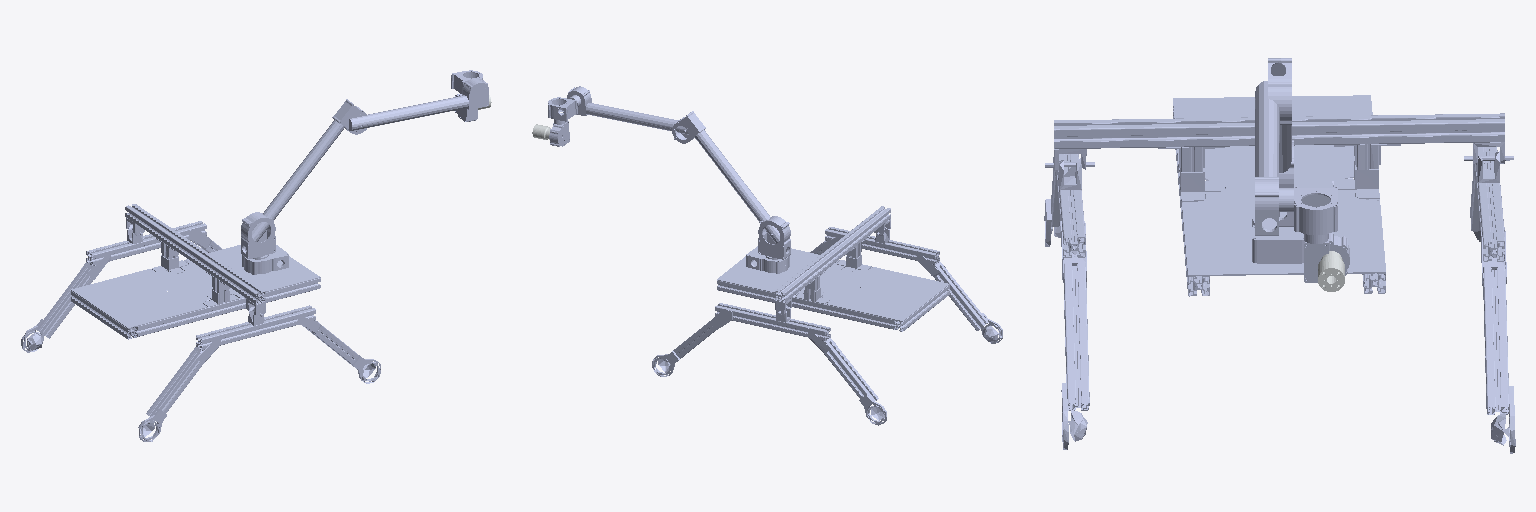
URDF robot description (arm_description):
<?xml version="1.0" encoding="utf-8"?>
<robot
  name="arm_description">
<link
    name="base_link">
  </link>
  <joint
    name="anchor_joint"
    type="fixed">
    <origin
      xyz="0 0 0"
      rpy="0 0 1.57" />
    <parent
      link="base_link" />
    <child
      link="anchor" />
  </joint>
<link
    name="anchor">
    <inertial>
      <origin
        xyz="0.0044130475778954 -0.0310568977431112 0.118279871618265"
        rpy="0 0 0" />
      <mass
        value="5.00699131277012" />
      <inertia
        ixx="0.268939126634922"
        ixy="0.000157102820952367"
        ixz="-0.0117934298282522"
        iyy="0.61282212173551"
        iyz="0.0042109592921943"
        izz="0.435034401814071" />
    </inertial>
    <visual>
      <origin
        xyz="0 0 0"
        rpy="0 0 0" />
      <geometry>
        <mesh
          filename="package://mobile_base_description/meshes/base_link.STL" />
      </geometry>
      <material
        name="">
        <color
          rgba="0.792156862745098 0.819607843137255 0.933333333333333 1" />
      </material>
    </visual>
    <collision>
      <origin
        xyz="0 0 0"
        rpy="0 0 0" />
      <geometry>
        <mesh
          filename="package://mobile_base_description/meshes/base_link.STL" />
      </geometry>
    </collision>
  </link>
  <link
    name="right_front_wheel_link">
    <inertial>
      <origin
        xyz="-0.11217 8.8447E-05 5.7636E-05"
        rpy="0 0 0" />
      <mass
        value="1.5004" />
      <inertia
        ixx="9.5426E-06"
        ixy="3.0122E-07"
        ixz="1.5725E-07"
        iyy="0.00077209"
        iyz="3.7664E-07"
        izz="0.0007733" />
    </inertial>
    <visual>
      <origin
        xyz="0 0 0"
        rpy="0 0 0" />
      <geometry>
        <mesh
          filename="package://mobile_base_description/meshes/wheel_link.STL" />
      </geometry>
      <material
        name="">
        <color
          rgba="0.79216 0.81961 0.93333 1" />
      </material>
    </visual>
    <collision>
      <origin
        xyz="-0.10 0 0"
        rpy="0 1.57 0" />
      <geometry>
        <!--mesh
          filename="package://mobile_base_description/meshes/wheel_link.STL" /-->
	<cylinder radius="0.16" length="0.09"/>
      </geometry>
    </collision>
  </link>
  <joint
    name="right_front_wheel_joint"
    type="continuous">
    <origin
      xyz="-0.39172 -0.62476 -0.30409"
      rpy="0 2.2837E-18 0.037305" />
    <parent
      link="anchor" />
    <child
      link="right_front_wheel_link" />
    <axis
      xyz="1 0 0" />
  </joint>
  <link
    name="left_front_wheel_link">
    <inertial>
      <origin
        xyz="-0.11217 8.8185E-05 5.7784E-05"
        rpy="0 0 0" />
      <mass
        value="1.5004" />
      <inertia
        ixx="9.5533E-06"
        ixy="3.0632E-07"
        ixz="1.5757E-07"
        iyy="0.00077207"
        iyz="3.7952E-07"
        izz="0.00077329" />
    </inertial>
    <visual>
      <origin
        xyz="0 0 0"
        rpy="0 0 0" />
      <geometry>
        <mesh
          filename="package://mobile_base_description/meshes/wheel_link.STL" />
      </geometry>
      <material
        name="">
        <color
          rgba="0.79216 0.81961 0.93333 1" />
      </material>
    </visual>
    <collision>
      <origin
        xyz="-0.10 0 0"
        rpy="0 1.57 0" />
      <geometry>
        <!--mesh
          filename="package://mobile_base_description/meshes/wheel_link.STL" /-->
	<cylinder radius="0.16" length="0.09"/>
      </geometry>
    </collision>
  </link>
  <joint
    name="left_front_wheel_joint"
    type="continuous">
    <origin
      xyz="0.43707 -0.64386 -0.30409"
      rpy="-1.5708 -2.2837E-18 -3.1043" />
    <parent
      link="anchor" />
    <child
      link="left_front_wheel_link" />
    <axis
      xyz="-1 0 0" />
  </joint>
  <link
    name="right_back_wheel_link">
    <inertial>
      <origin
        xyz="-0.11217 8.8435E-05 5.7607E-05"
        rpy="0 0 0" />
      <mass
        value="1.5004" />
      <inertia
        ixx="9.5638E-06"
        ixy="3.0089E-07"
        ixz="1.5622E-07"
        iyy="0.00077205"
        iyz="3.8333E-07"
        izz="0.00077327" />
    </inertial>
    <visual>
      <origin
        xyz="0 0 0"
        rpy="0 0 0" />
      <geometry>
        <mesh
          filename="package://mobile_base_description/meshes/wheel_link.STL" />
      </geometry>
      <material
        name="">
        <color
          rgba="0.79216 0.81961 0.93333 1" />
      </material>
    </visual>
    <collision>
      <origin
        xyz="-0.10 0 0"
        rpy="0 1.57 0" />
      <geometry>
        <!--mesh
          filename="package://mobile_base_description/meshes/wheel_link.STL" /-->
	<cylinder radius="0.16" length="0.09"/>
      </geometry>
    </collision>
  </link>
  <joint
    name="right_rear_wheel_joint"
    type="continuous">
    <origin
      xyz="-0.42784 0.34311 -0.30409"
      rpy="0 2.2837E-18 0.037305" />
    <parent
      link="anchor" />
    <child
      link="right_back_wheel_link" />
    <axis
      xyz="1 0 0" />
  </joint>
  <link
    name="left_back_wheel_link">
    <inertial>
      <origin
        xyz="-0.11217 8.8435E-05 5.7607E-05"
        rpy="0 0 0" />
      <mass
        value="1.5004" />
      <inertia
        ixx="9.5638E-06"
        ixy="3.0089E-07"
        ixz="1.5622E-07"
        iyy="0.00077205"
        iyz="3.8333E-07"
        izz="0.00077327" />
    </inertial>
    <visual>
      <origin
        xyz="0 0 0"
        rpy="0 0 0" />
      <geometry>
        <mesh
          filename="package://mobile_base_description/meshes/wheel_link.STL" />
      </geometry>
      <material
        name="">
        <color
          rgba="0.79216 0.81961 0.93333 1" />
      </material>
    </visual>
    <collision>
      <origin
        xyz="-0.10 0 0"
        rpy="0 1.57 0" />
      <geometry>
        <!--mesh
          filename="package://mobile_base_description/meshes/wheel_link.STL" /-->
	<cylinder radius="0.16" length="0.09"/>
      </geometry>
    </collision>
  </link>
  <joint
    name="left_rear_wheel_joint"
    type="continuous">
    <origin
      xyz="0.40294 0.32408 -0.30409"
      rpy="1.5708 5.545E-15 -3.1043" />
    <parent
      link="anchor" />
    <child
      link="left_back_wheel_link" />
    <axis
      xyz="-1 0 0" />
  </joint>

  <link
    name="arm_base_link">
    <inertial>
      <origin
        xyz="0.055 0.028511 -0.07071"
        rpy="0 0 0" />
      <mass
        value="0.22424" />
      <inertia
        ixx="1"
        ixy="1"
        ixz="0"
        iyy="1"
        iyz="0"
        izz="1" />
    </inertial>
    <visual>
      <origin
        xyz="0 0 0"
        rpy="0 0 0" />
      <geometry>
        <mesh
          filename="package://arm_description/meshes/base_link.STL" />
      </geometry>
      <material
        name="">
        <color
          rgba="0.79216 0.81961 0.93333 1" />
      </material>
    </visual>
    <collision>
      <origin
        xyz="0 0 0"
        rpy="0 0 0" />
      <geometry>
        <mesh
          filename="package://arm_description/meshes/base_link.STL" />
      </geometry>
    </collision>
  </link>
  
  <joint
    name="joint_dummy"
    type="fixed">
    <origin
      xyz="-0.05 -0.5 0.0"
      rpy="0 0 0" />
    <parent
      link="anchor" />
    <child
      link="arm_base_link" />
  </joint>
  
  <link
    name="link1">
    <inertial>
      <origin
        xyz="0 -0.0739919805157646 0.00271975586057593"
        rpy="0 0 0" />
      <mass
        value="0.182986637355482" />
      <inertia
        ixx="1"
        ixy="0"
        ixz="0"
        iyy="1"
        iyz="0"
        izz="1" />
    </inertial>
    <visual>
      <origin
        xyz="0 0 0"
        rpy="0 0 0" />
      <geometry>
        <mesh
          filename="package://arm_description/meshes/link1.STL" />
      </geometry>
      <material
        name="">
        <color
          rgba="0.792156862745098 0.819607843137255 0.933333333333333 1" />
      </material>
    </visual>
    <collision>
      <origin
        xyz="0 0 0"
        rpy="0 0 0" />
      <geometry>
        <mesh
          filename="package://arm_description/meshes/link1.STL" />
      </geometry>
    </collision>
  </link>
  <joint
    name="joint1"
    type="revolute">
    <origin
      xyz="0.055 0.105 0.058"
      rpy="-1.5708 -6.123E-17 -1.5708" />
    <parent
      link="arm_base_link" />
    <child
      link="link1" />
     <axis
      xyz="0 1 0" />
    <limit
      lower="-3.14"
      upper="3.14"
      effort="100"
      velocity="20" />
      <dynamics
        damping = "5"
        friction = "5"/>
  </joint>
  <link
    name="link2">
    <inertial>
      <origin
        xyz="9.33241508168856E-05 0.00299946771656848 0.259411152659096"
        rpy="0 0 0" />
      <mass
        value="0.15891412192705" />
      <inertia
        ixx="1"
        ixy="0"
        ixz="0"
        iyy="1"
        iyz="0"
        izz="1" />
    </inertial>
    <visual>
      <origin
        xyz="0 0 0"
        rpy="0 0 0" />
      <geometry>
        <mesh
          filename="package://arm_description/meshes/link2.STL" />
      </geometry>
      <material
        name="">
        <color
          rgba="0.792156862745098 0.819607843137255 0.933333333333333 1" />
      </material>
    </visual>
    <collision>
      <origin
        xyz="0 0 0"
        rpy="0 0 0" />
      <geometry>
        <mesh
          filename="package://arm_description/meshes/link2.STL" />
      </geometry>
    </collision>
  </link>
  <joint
    name="joint2"
    type="revolute">
    <origin
      xyz="0 -0.0975 0.0005"
      rpy="0.79351 1.5708 0" />
    <parent
      link="link1" />
    <child
      link="link2" />
     <axis
      xyz="1 0 0" />
    <limit
      lower="-3.14"
      upper="3.14"
      effort="100"
      velocity="20" />
  </joint>
  <link
    name="link3">
    <inertial>
      <origin
        xyz="-0.000140175541839031 0.00170047101330162 0.234927029132246"
        rpy="0 0 0" />
      <mass
        value="0.12508309667554" />
      <inertia
        ixx="1"
        ixy="0"
        ixz="0"
        iyy="1"
        iyz="0"
        izz="1" />
    </inertial>
    <visual>
      <origin
        xyz="0 0 0"
        rpy="0 0 0" />
      <geometry>
        <mesh
          filename="package://arm_description/meshes/link3.STL" />
      </geometry>
      <material
        name="">
        <color
          rgba="0.792156862745098 0.819607843137255 0.933333333333333 1" />
      </material>
    </visual>
    <collision>
      <origin
        xyz="0 0 0"
        rpy="0 0 0" />
      <geometry>
        <mesh
          filename="package://arm_description/meshes/link3.STL" />
      </geometry>
    </collision>
  </link>
  <joint
    name="joint3"
    type="revolute">
    <origin
      xyz="0.0245 0.0495 0.5419"
      rpy="0.83549 0 3.1416" />
    <parent
      link="link2" />
    <child
      link="link3" />
     <axis
      xyz="1 0 0" />
    <limit
      lower="-3.14"
      upper="3.14"
      effort="100"
      velocity="20" />
  </joint>
  <link
    name="link4">
    <inertial>
      <origin
        xyz="-0.00777696008671636 0.0133698565418885 0.0217435569521924"
        rpy="0 0 0" />
      <mass
        value="0.156151945009422" />
      <inertia
        ixx="1"
        ixy="0"
        ixz="0"
        iyy="1"
        iyz="0"
        izz="1" />
	</inertial>
    <visual>
      <origin
        xyz="0 0 0"
        rpy="0 0 0" />
      <geometry>
        <mesh
          filename="package://arm_description/meshes/link4.STL" />
      </geometry>
      <material
        name="">
        <color
          rgba="0.792156862745098 0.819607843137255 0.933333333333333 1" />
      </material>
    </visual>
    <collision>
      <origin
        xyz="0 0 0"
        rpy="0 0 0" />
      <geometry>
        <mesh
          filename="package://arm_description/meshes/link4.STL" />
      </geometry>
    </collision>
  </link>
  <joint
    name="joint4"
    type="revolute">
    <origin
      xyz="0.0545 0.0355 0.503"
      rpy="1.5708 -6.9389E-18 1.5708" />
    <parent
      link="link3" />
    <child
      link="link4" />
     <axis
      xyz="0 0 1" />
    <limit
      lower="-3.14"
      upper="3.14"
      effort="100"
      velocity="20" />
  </joint>
  <link
    name="link5">
    <inertial>
      <origin
        xyz="0.00423182736021133 0.00932384755029578 0.0219997086154421"
        rpy="0 0 0" />
      <mass
        value="0.153675066385186" />
      <inertia
        ixx="1"
        ixy="0"
        ixz="0"
        iyy="1"
        iyz="0"
        izz="1" />
    </inertial>
    <visual>
      <origin
        xyz="0 0 0"
        rpy="0 0 0" />
      <geometry>
        <mesh
          filename="package://arm_description/meshes/link5.STL" />
      </geometry>
      <material
        name="">
        <color
          rgba="0.792156862745098 0.819607843137255 0.933333333333333 1" />
      </material>
    </visual>
    <collision>
      <origin
        xyz="0 0 0"
        rpy="0 0 0" />
      <geometry>
        <mesh
          filename="package://arm_description/meshes/link5.STL" />
      </geometry>
    </collision>
  </link>
  <joint
    name="joint5"
    type="revolute">
    <origin
      xyz="-0.07 0.035 0.044"
      rpy="1.5708 0 -1.5708" />
    <parent
      link="link4" />
    <child
      link="link5" />
     <axis
      xyz="0 0 1" />
    <limit
      lower="-3.14"
      upper="3.14"
      effort="100"
      velocity="20" />
  </joint>
  <link
    name="link6">
    <inertial>
      <origin
        xyz="2.77555756156289E-17 1.11022302462516E-16 0.0181583763254755"
        rpy="0 0 0" />
      <mass
        value="0.299295530441066" />
      <inertia
        ixx="1"
        ixy="0"
        ixz="0"
        iyy="1"
        iyz="0"
        izz="1" />
    </inertial>
    <visual>
      <origin
        xyz="0 0 0"
        rpy="0 0 0" />
      <geometry>
        <mesh
          filename="package://arm_description/meshes/link6.STL" />
      </geometry>
      <material
        name="">
        <color
          rgba="0.898039215686275 0.917647058823529 0.929411764705882 1" />
      </material>
    </visual>
    <collision>
      <origin
        xyz="0 0 0"
        rpy="0 0 0" />
      <geometry>
        <mesh
          filename="package://arm_description/meshes/link6.STL" />
      </geometry>
    </collision>
  </link>
  <joint
    name="joint6"
    type="revolute">
    <origin
      xyz="-0.041 0.031 0.045"
      rpy="-1.5708 0 1.5708" />
    <parent
      link="link5" />
    <child
      link="link6" />
     <axis
      xyz="0 0 1" />
    <limit
      lower="-3.14"
      upper="3.14"
      effort="100"
      velocity="20" />
  </joint>
<transmission name="tran1">
    <type>transmission_interface/SimpleTransmission</type>
    <joint name="joint1">
      <hardwareInterface>hardware_interface/EffortJointInterface</hardwareInterface>
    </joint>
    <actuator name="motor1">
      <hardwareInterface>hardware_interface/EffortJointInterface</hardwareInterface>
      <mechanicalReduction>1</mechanicalReduction>
    </actuator>
  </transmission>   
<transmission name="tran2">
    <type>transmission_interface/SimpleTransmission</type>
    <joint name="joint2">
      <hardwareInterface>hardware_interface/EffortJointInterface</hardwareInterface>
    </joint>
    <actuator name="motor2">
      <hardwareInterface>hardware_interface/EffortJointInterface</hardwareInterface>
      <mechanicalReduction>1</mechanicalReduction>
    </actuator>
  </transmission> 
<transmission name="tran3">
    <type>transmission_interface/SimpleTransmission</type>
    <joint name="joint3">
      <hardwareInterface>hardware_interface/EffortJointInterface</hardwareInterface>
    </joint>
    <actuator name="motor3">
      <hardwareInterface>hardware_interface/EffortJointInterface</hardwareInterface>
      <mechanicalReduction>1</mechanicalReduction>
    </actuator>
  </transmission>
<transmission name="tran4">
    <type>transmission_interface/SimpleTransmission</type>
    <joint name="joint4">
      <hardwareInterface>hardware_interface/EffortJointInterface</hardwareInterface>
    </joint>
    <actuator name="motor4">
      <hardwareInterface>hardware_interface/EffortJointInterface</hardwareInterface>
      <mechanicalReduction>1</mechanicalReduction>
    </actuator>
  </transmission>
<transmission name="tran5">
    <type>transmission_interface/SimpleTransmission</type>
    <joint name="joint5">
      <hardwareInterface>hardware_interface/EffortJointInterface</hardwareInterface>
    </joint>
    <actuator name="motor5">
      <hardwareInterface>hardware_interface/EffortJointInterface</hardwareInterface>
      <mechanicalReduction>1</mechanicalReduction>
    </actuator>
  </transmission>
<transmission name="tran6">
    <type>transmission_interface/SimpleTransmission</type>
    <joint name="joint6">
      <hardwareInterface>hardware_interface/EffortJointInterface</hardwareInterface>
    </joint>
    <actuator name="motor6">
      <hardwareInterface>hardware_interface/EffortJointInterface</hardwareInterface>
      <mechanicalReduction>1</mechanicalReduction>
    </actuator>
  </transmission>

<transmission name="tran7">
    <type>transmission_interface/SimpleTransmission</type>
    <joint name="left_front_wheel_joint">
      <hardwareInterface>hardware_interface/VelocityJointInterface</hardwareInterface>
    </joint>
    <actuator name="motor7">
      <hardwareInterface>hardware_interface/VelocityJointInterface</hardwareInterface>
      <mechanicalReduction>1</mechanicalReduction>
    </actuator>
  </transmission>
<transmission name="tran8">
    <type>transmission_interface/SimpleTransmission</type>
    <joint name="right_front_wheel_joint">
      <hardwareInterface>hardware_interface/VelocityJointInterface</hardwareInterface>
    </joint>
    <actuator name="motor8">
      <hardwareInterface>hardware_interface/VelocityJointInterface</hardwareInterface>
      <mechanicalReduction>1</mechanicalReduction>
    </actuator>
  </transmission>
<transmission name="tran9">
    <type>transmission_interface/SimpleTransmission</type>
    <joint name="left_rear_wheel_joint">
      <hardwareInterface>hardware_interface/VelocityJointInterface</hardwareInterface>
    </joint>
    <actuator name="motor9">
      <hardwareInterface>hardware_interface/VelocityJointInterface</hardwareInterface>
      <mechanicalReduction>1</mechanicalReduction>
    </actuator>
  </transmission>
<transmission name="tran10">
    <type>transmission_interface/SimpleTransmission</type>
    <joint name="right_rear_wheel_joint">
      <hardwareInterface>hardware_interface/VelocityJointInterface</hardwareInterface>
    </joint>
    <actuator name="motor10">
      <hardwareInterface>hardware_interface/VelocityJointInterface</hardwareInterface>
      <mechanicalReduction>1</mechanicalReduction>
    </actuator>
  </transmission>
  <gazebo>
    <plugin name="gazebo_ros_control" filename="libgazebo_ros_control.so">
    </plugin>
  </gazebo>
</robot>

--- What the picture shows (computed from the rendered views, not written in the file) ---
Views: 3 orthographic renders of the robot side by side, from view 1: azimuth 30°, elevation 25°; view 2: azimuth 150°, elevation 25°; view 3: azimuth 270°, elevation 25°.
Model arm_description with 13 links and 12 joints (6 revolute, 4 continuous, 2 fixed), rooted at base_link, posed every joint at zero.
Visible links, largest first — view 1: anchor, link2, link3, link1, arm_base_link; view 2: anchor, link2, link3, link1, arm_base_link, link4; view 3: anchor, link3, link4, link2, arm_base_link, link5, link6, link1.
Link boxes in pixels (x1=…): anchor: x1=21, y1=204, x2=380, y2=441; link2: x1=252, y1=99, x2=366, y2=241; link3: x1=349, y1=78, x2=488, y2=130; link1: x1=241, y1=212, x2=275, y2=258; arm_base_link: x1=242, y1=245, x2=288, y2=274; anchor: x1=652, y1=206, x2=1002, y2=425; link2: x1=672, y1=111, x2=779, y2=243; link3: x1=567, y1=86, x2=688, y2=134; link1: x1=758, y1=216, x2=790, y2=259; arm_base_link: x1=746, y1=246, x2=789, y2=273; link4: x1=548, y1=95, x2=580, y2=121; anchor: x1=1044, y1=95, x2=1515, y2=453; link3: x1=1255, y1=81, x2=1279, y2=235; link4: x1=1279, y1=186, x2=1337, y2=235; link2: x1=1268, y1=58, x2=1291, y2=172; arm_base_link: x1=1252, y1=214, x2=1303, y2=263; link5: x1=1304, y1=233, x2=1349, y2=282; link6: x1=1318, y1=251, x2=1344, y2=291; link1: x1=1279, y1=140, x2=1293, y2=226.
Size in the robot's own frame: 1.83 by 0.9499 by 0.9427 metres.
Meshes: 9 distinct files referenced, 8 mesh visuals loaded (8 binary STL); not drawn: 4 (reference not matched to a file when rendering).